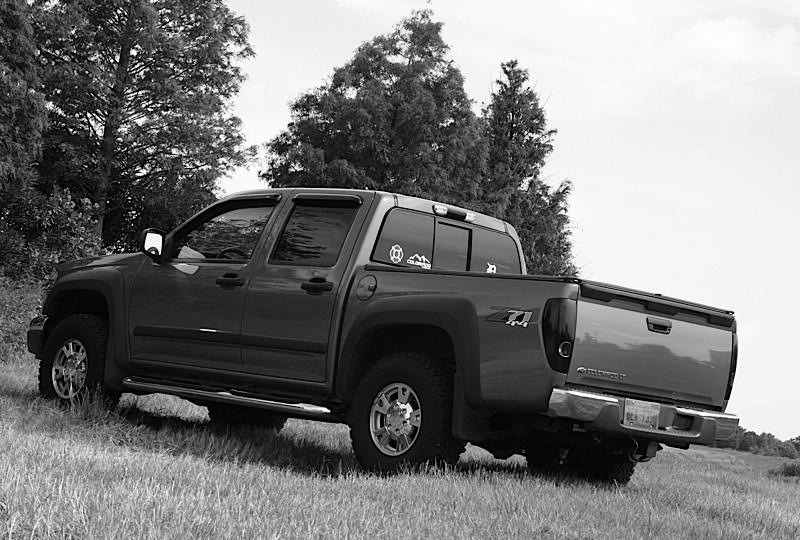car: (25, 183, 741, 488)
